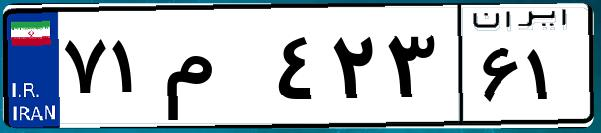1: (525, 38, 570, 115), (110, 28, 158, 98)
2: (330, 28, 385, 110)
3: (385, 28, 445, 110)
4: (270, 28, 330, 110)
6: (475, 38, 525, 113)
7: (57, 26, 110, 100)
م: (158, 20, 270, 120)
